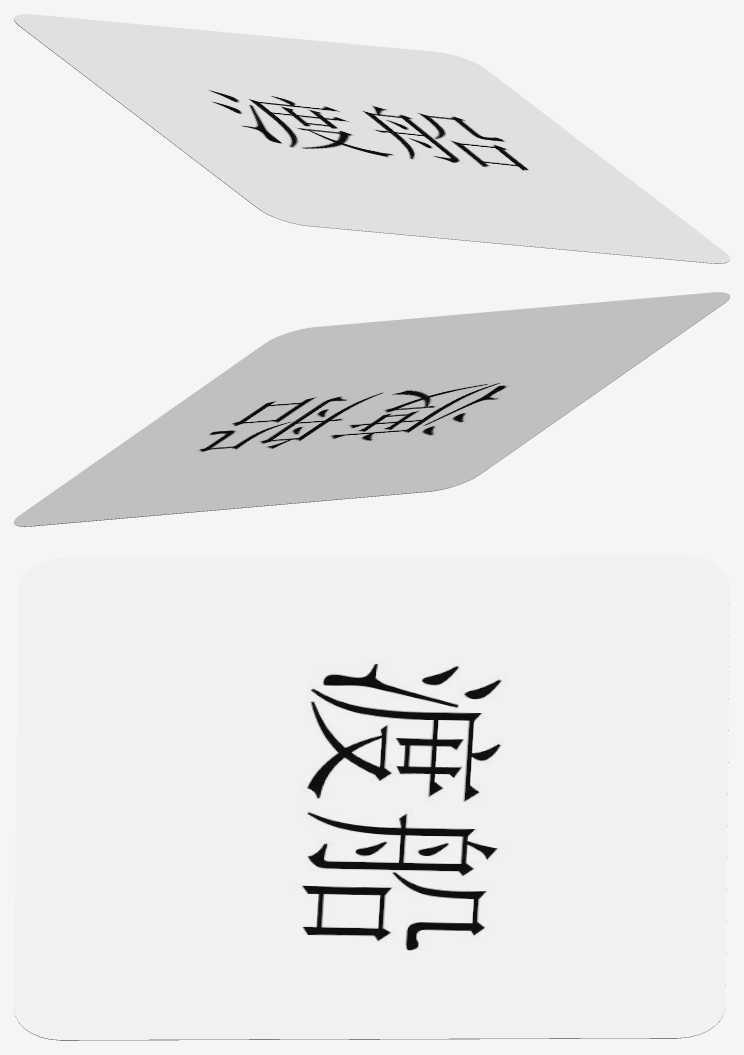
Rendered from DuChuan.FBX.
3 renders of one model, top to bottom at view 1: azimuth 30°, elevation 25°; view 2: azimuth 150°, elevation 25°; view 3: azimuth 270°, elevation 25°, orthographic. The views are drawn at different scales.
Visible parts, largest first — view 1: Rectangle001; view 2: Rectangle001; view 3: Rectangle001.
Part boxes in pixels (x1,y1,x2,y2): Rectangle001: (14, 14, 729, 263); Rectangle001: (14, 292, 729, 526); Rectangle001: (14, 555, 729, 1040).
Size of the model in its own units: 57.7 by 18.73 by 60.36.
